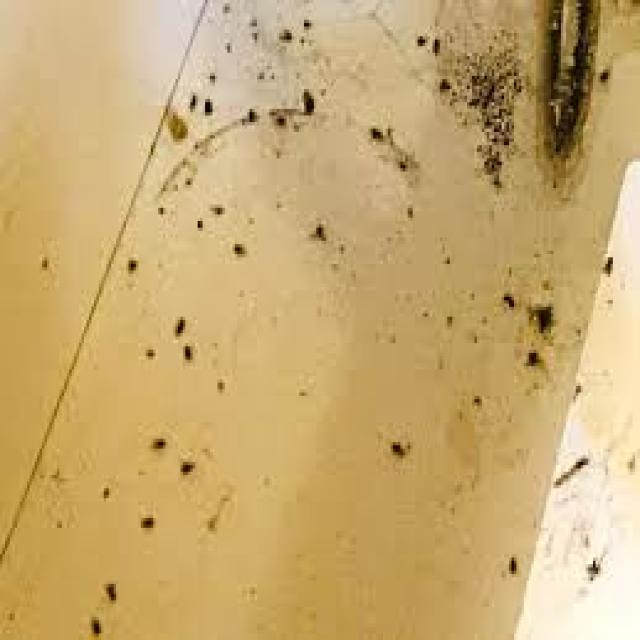fruit fly: (141, 422, 173, 459), (166, 448, 200, 482), (77, 600, 106, 637), (163, 303, 190, 340), (131, 504, 158, 538), (383, 429, 408, 465), (96, 567, 118, 607), (502, 541, 522, 584), (302, 215, 328, 248), (195, 86, 218, 122), (494, 280, 516, 317), (173, 330, 195, 366), (225, 234, 247, 261), (121, 248, 138, 280), (183, 86, 200, 112)
